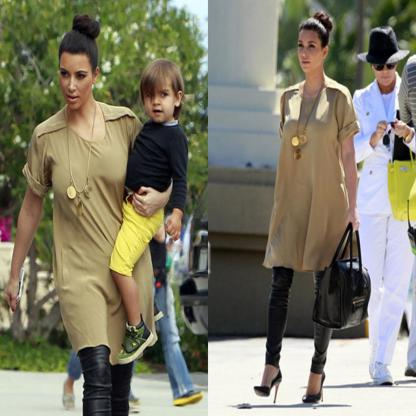face: (60, 52, 96, 110), (144, 76, 176, 123), (298, 28, 322, 74), (374, 53, 397, 87)
